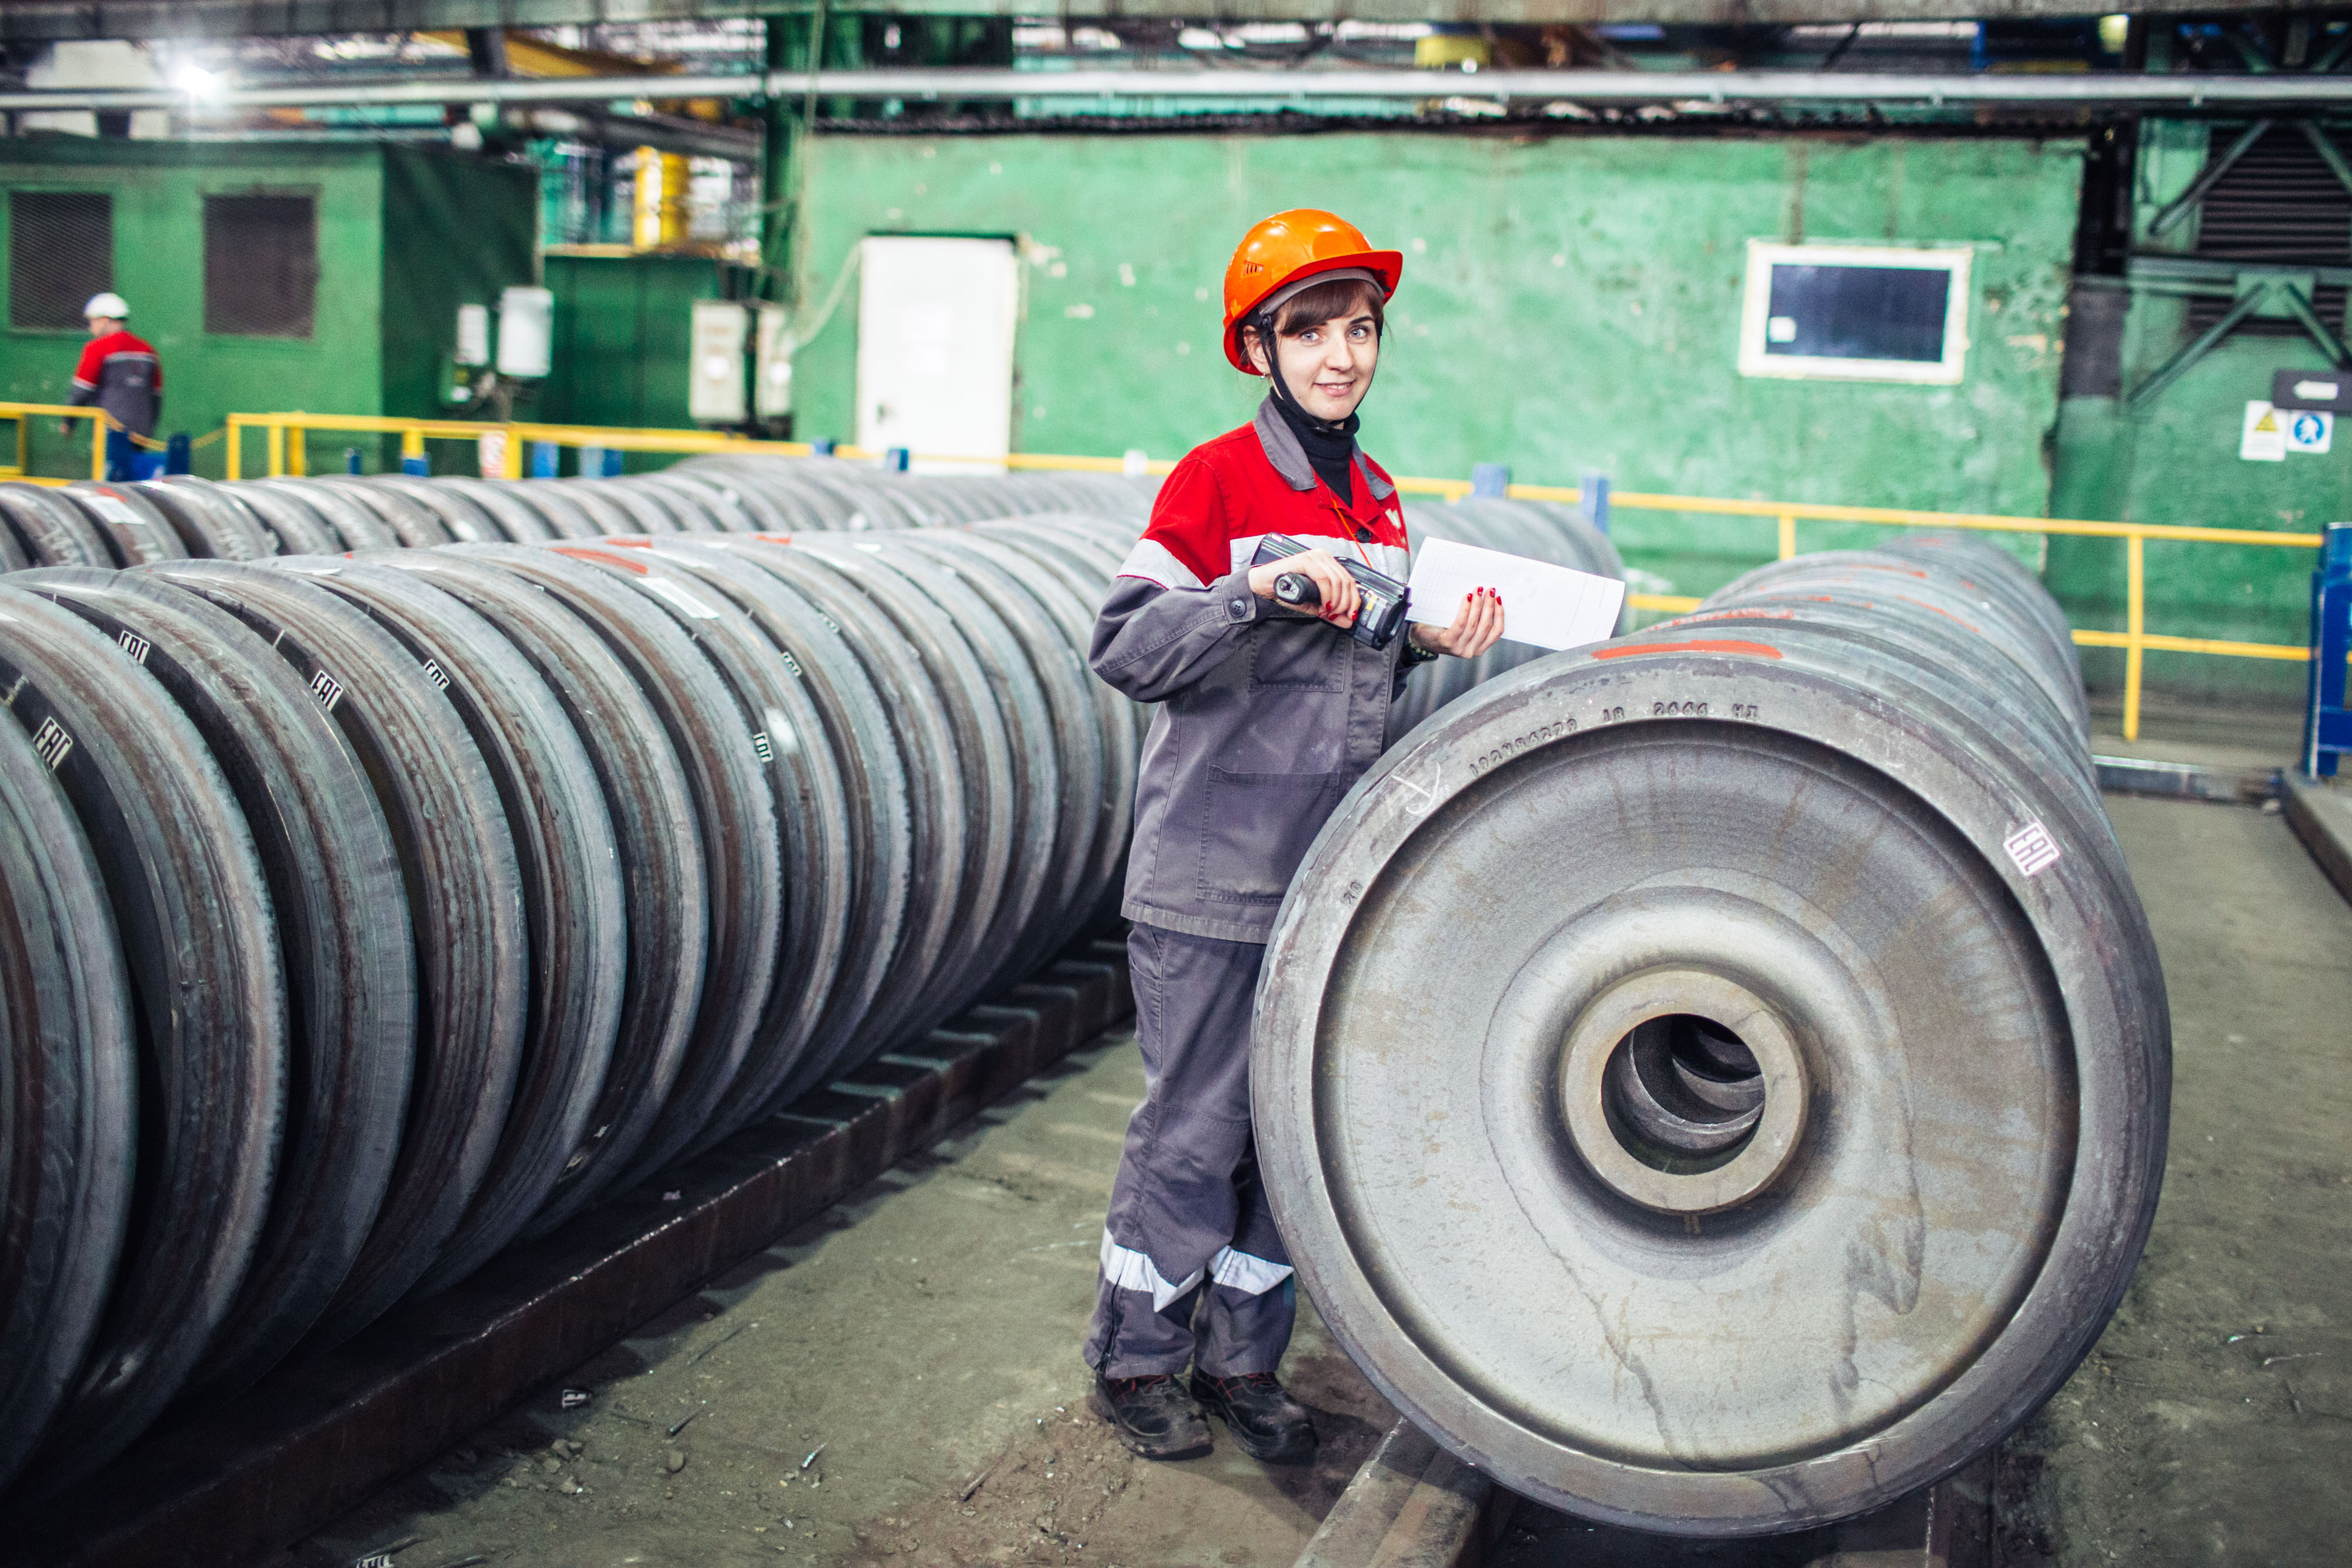person: (1089, 208, 1509, 1457), (48, 293, 168, 507)
